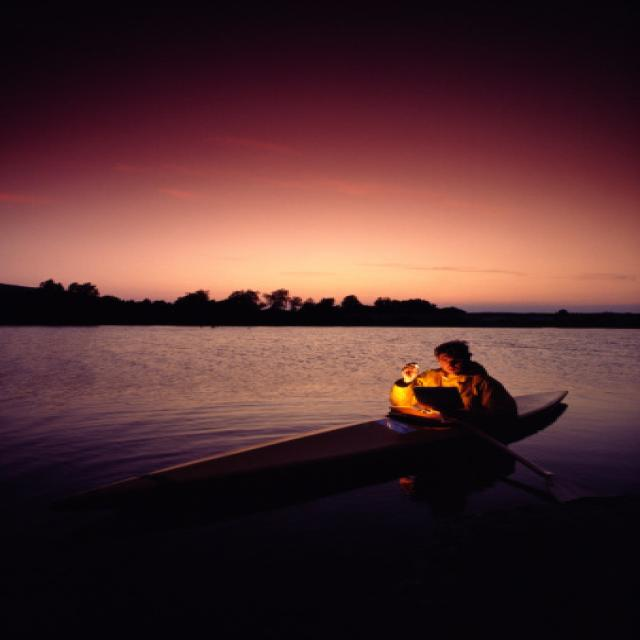Boat: (40, 381, 586, 508)
People: (390, 337, 512, 442)
